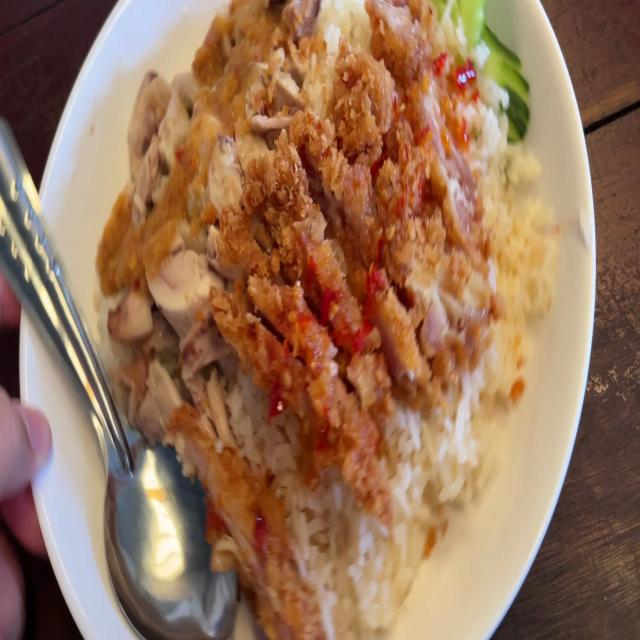chicken_rice: (116, 1, 254, 347)
